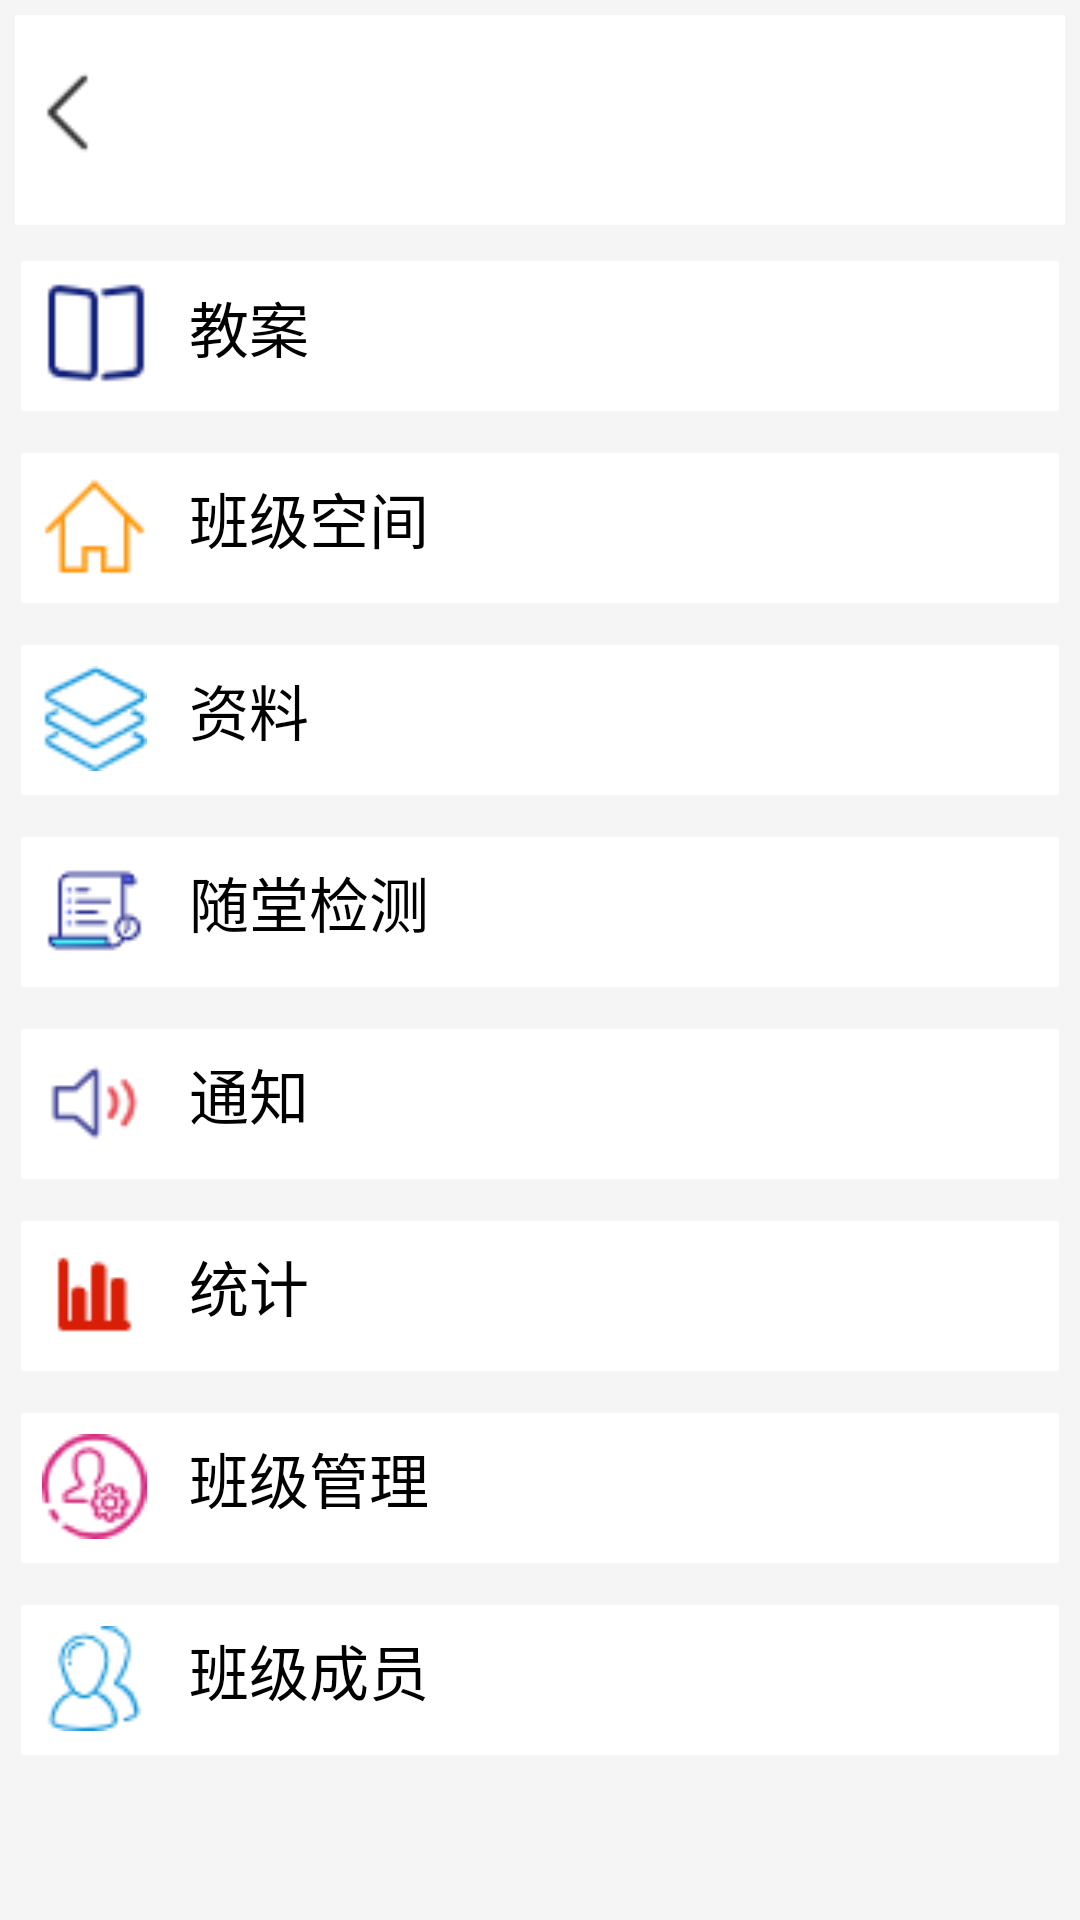

Icon click points for this 1080 x 1920 phone screenshot, format (x,y):
control: (94,1486)
data: (95,718)
left: (67,112)
member: (94,1678)
notify: (94,1103)
space: (94,527)
sum: (94,1294)
teaching: (96,333)
